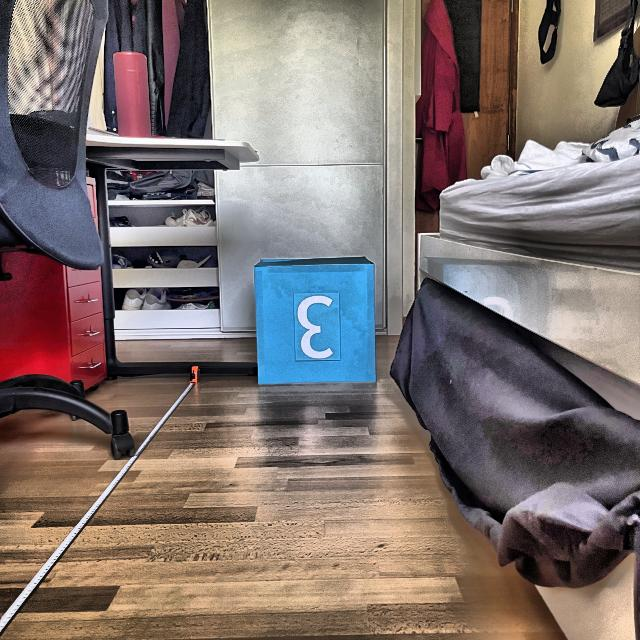blue box: (251, 255, 380, 385)
three: (298, 293, 336, 360)
